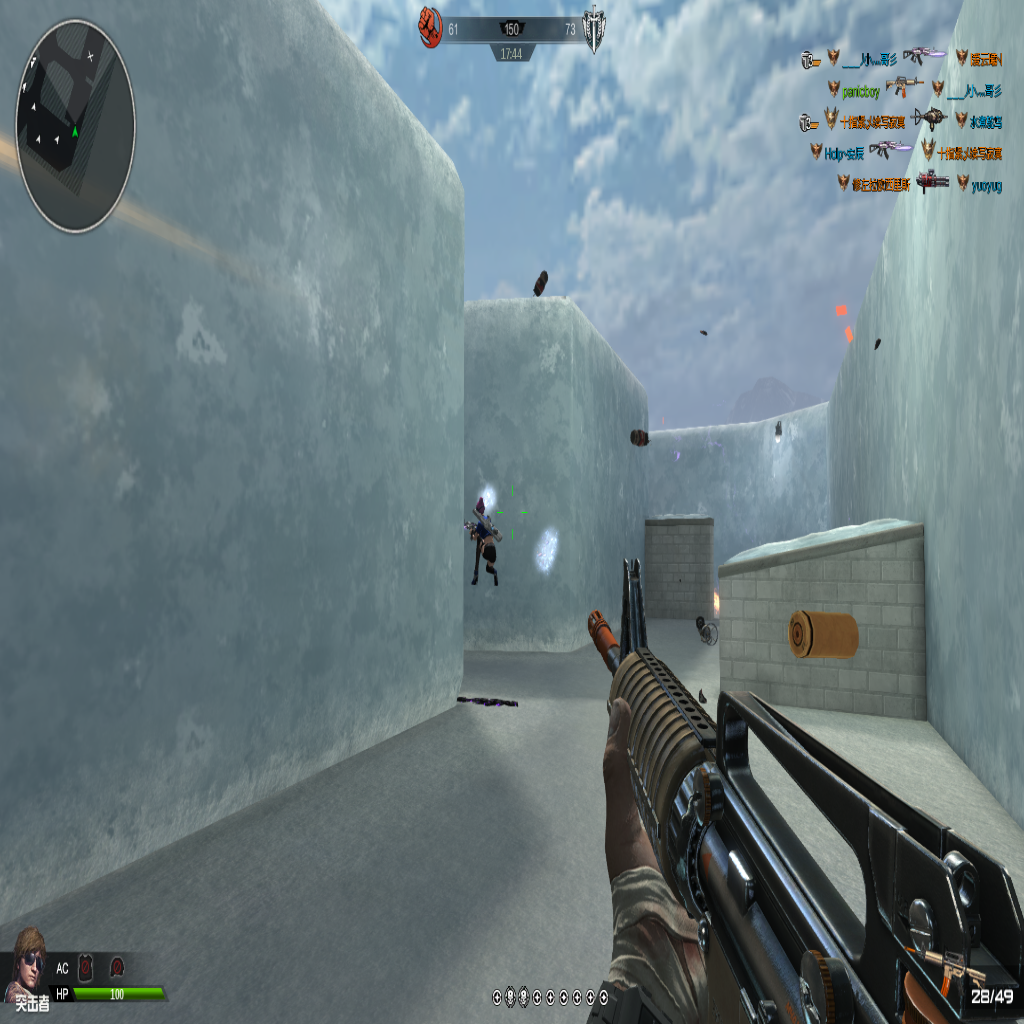ct: (465, 501, 501, 586)
